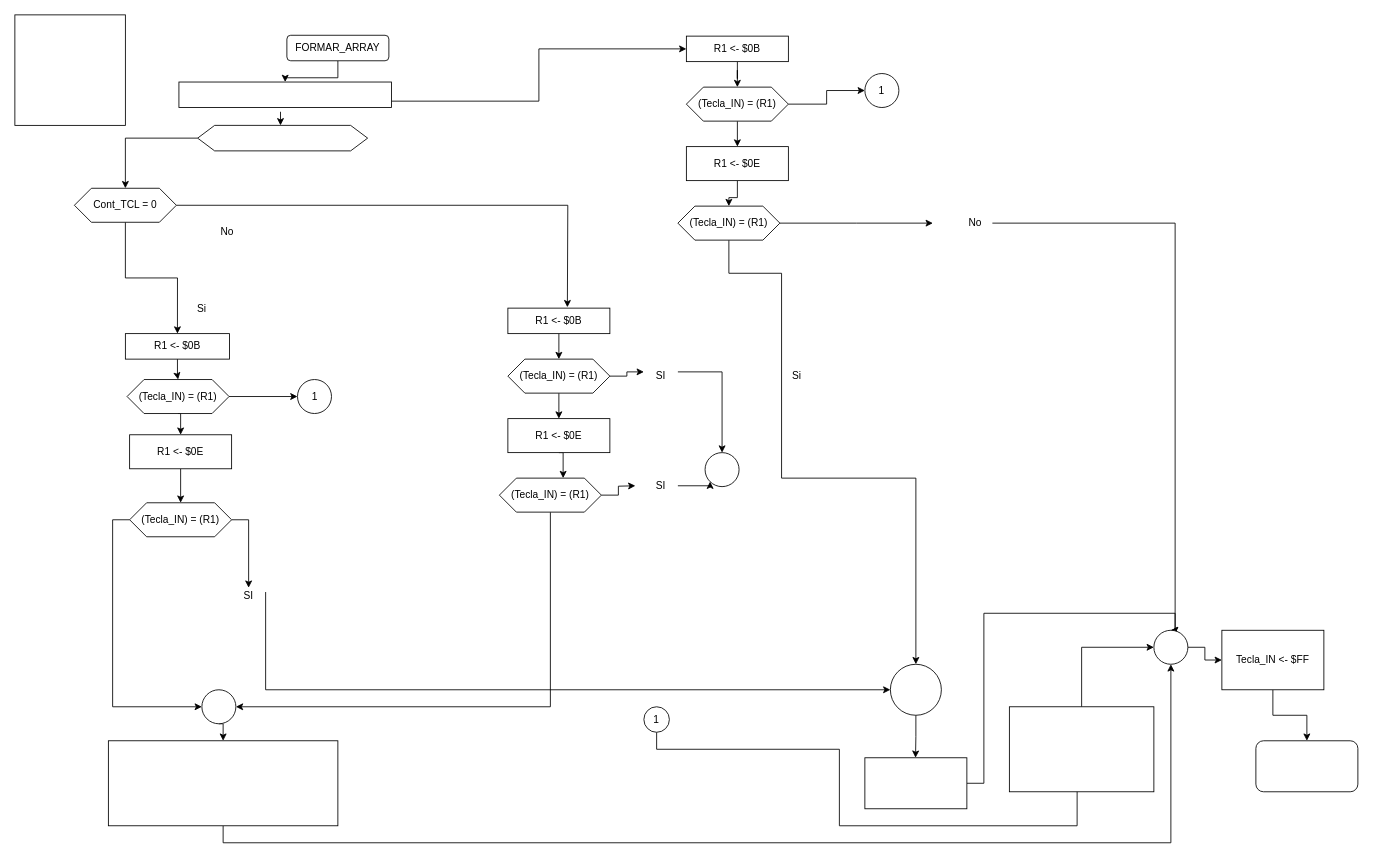
Image size: 1373x864. Some labels were removed from this diagram. The shapes that lost their labels are listed below. From the top down, each one's box as (x1, y1, x2, y2) in pixels, then its label:
(14, 14, 125, 125): C - carry K. - Y J - X R1 - A R2 - B RR1 - D
(178, 81, 391, 108): R1 <- (Cont_TCL)
(197, 125, 368, 151): R1 = MAX_TCL
(1009, 706, 1154, 792): Cont_TCL <- (Cont_TCL) -1 J <- (Num_Array) R1 <- (Cont_TCL) ((J)+(R1)) <- $FF
(1255, 740, 1358, 792): RTS
(108, 740, 338, 826): R1 <- Cont_TCL J <- Num_Array ((J) + (R1)) <- Tecla_IN Cont_TCL <- (Cont_TCL) +1
(864, 757, 967, 809): BANDERAS.2 <- 1 Cont_TCL <- $00
